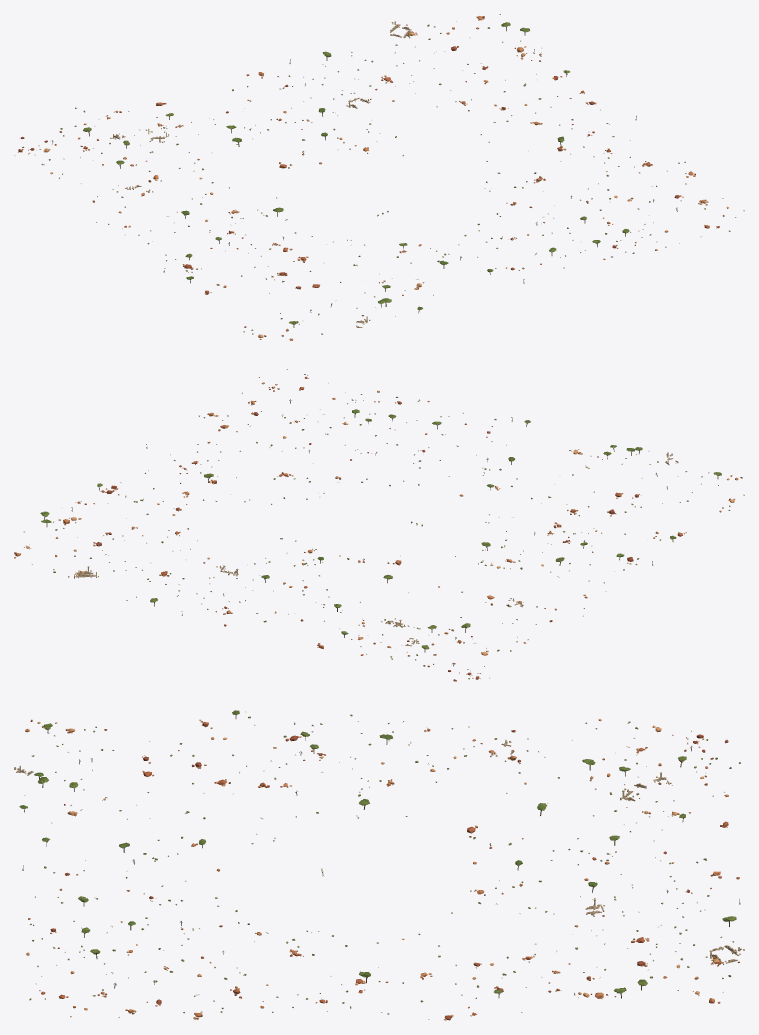
File: dressing.glb
3 renders of one model, top to bottom at view 1: azimuth 30°, elevation 25°; view 2: azimuth 150°, elevation 25°; view 3: azimuth 270°, elevation 25°, orthographic. The views are drawn at different scales.
Visible parts, largest first — view 1: Dressing; view 2: Dressing; view 3: Dressing.
Boxes of the visible parts, x1,y1,x2,y2 form: Dressing: [14, 14, 744, 340]; Dressing: [14, 369, 744, 681]; Dressing: [14, 710, 744, 1020].
Bounding box in the file's own units: 385 × 29.52 × 392.
